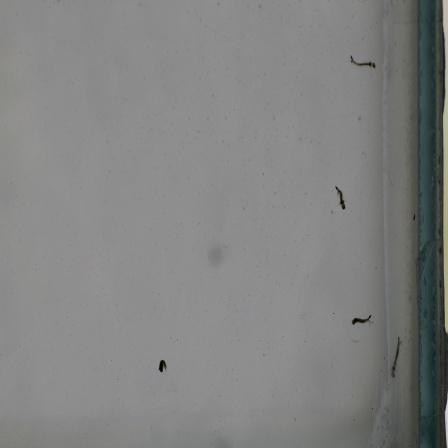Jentik-Nyamuk: (348, 50, 378, 76), (388, 331, 402, 380), (347, 312, 374, 329), (333, 183, 348, 211), (152, 356, 170, 379)
